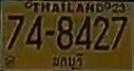2: (94, 16, 108, 50)
4: (25, 15, 41, 49), (75, 15, 90, 49)
7: (7, 14, 24, 49), (111, 16, 127, 48)
8: (57, 15, 72, 49)
CBI: (50, 52, 85, 71)
